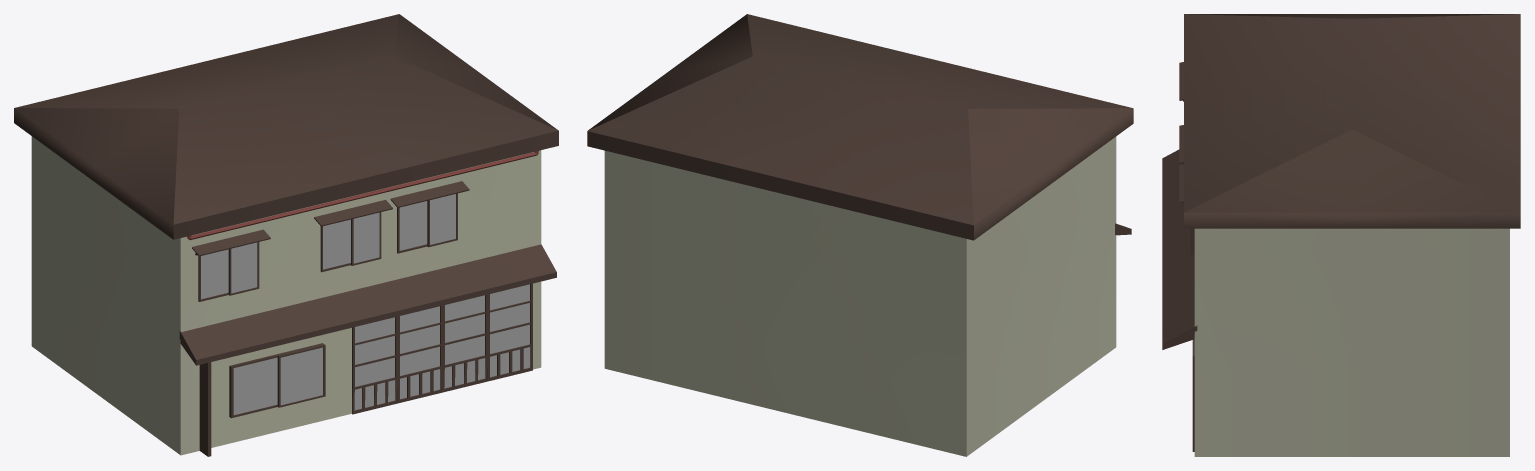
Rendered from apt_rando_1.fbx.
The picture shows the model from 3 angles, left to right: view 1: azimuth 30°, elevation 25°; view 2: azimuth 150°, elevation 25°; view 3: azimuth 270°, elevation 25°; orthographic projection. The views are drawn at different scales.
Visible parts, largest first — view 1: polySurface141, polySurface117, polySurface118, polySurface116, polySurface113, polySurface115, polySurface114, polySurface403, polySurface404, pipe4, polySurface2687, polySurface2700 (+8 smaller); view 2: polySurface117, polySurface141; view 3: polySurface141, polySurface117, polySurface118.
Boxes of the visible parts, x1,y1,x2,y2 form: polySurface141: [14, 14, 558, 239]; polySurface117: [31, 136, 541, 455]; polySurface118: [179, 244, 556, 365]; polySurface116: [352, 316, 397, 414]; polySurface113: [487, 283, 532, 381]; polySurface115: [397, 305, 442, 403]; polySurface114: [443, 294, 487, 392]; polySurface403: [229, 343, 323, 418]; polySurface404: [277, 344, 325, 407]; pipe4: [187, 151, 538, 239]; polySurface2687: [228, 242, 259, 295]; polySurface2700: [427, 193, 457, 247]; polySurface117: [604, 136, 1116, 456]; polySurface141: [587, 14, 1133, 240]; polySurface141: [1184, 14, 1520, 228]; polySurface117: [1194, 228, 1509, 456]; polySurface118: [1162, 149, 1197, 349].
Size of the model in its own units: 72.22 by 49.15 by 55.11.
2 materials, 1 textured.
